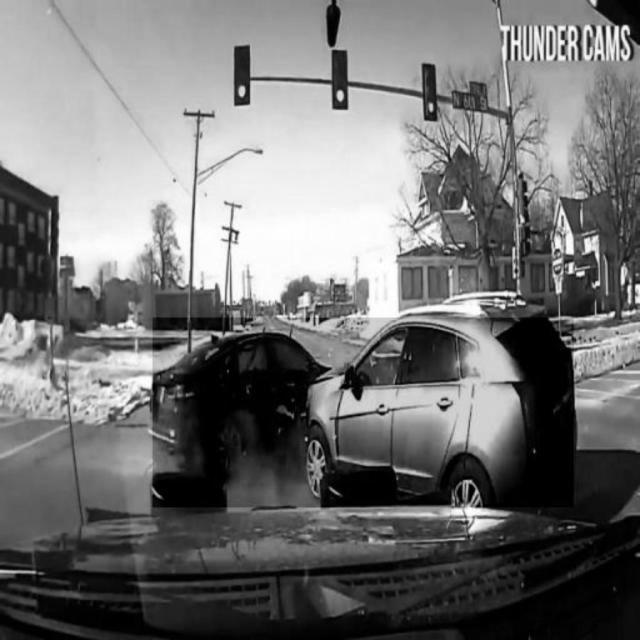accident: (153, 318, 574, 508)
